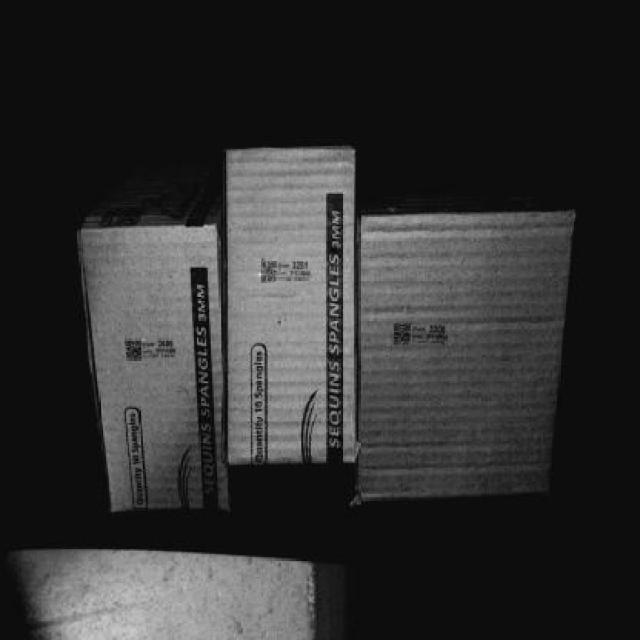cardboxes: (370, 214, 568, 509), (85, 226, 232, 512), (233, 149, 365, 457)
